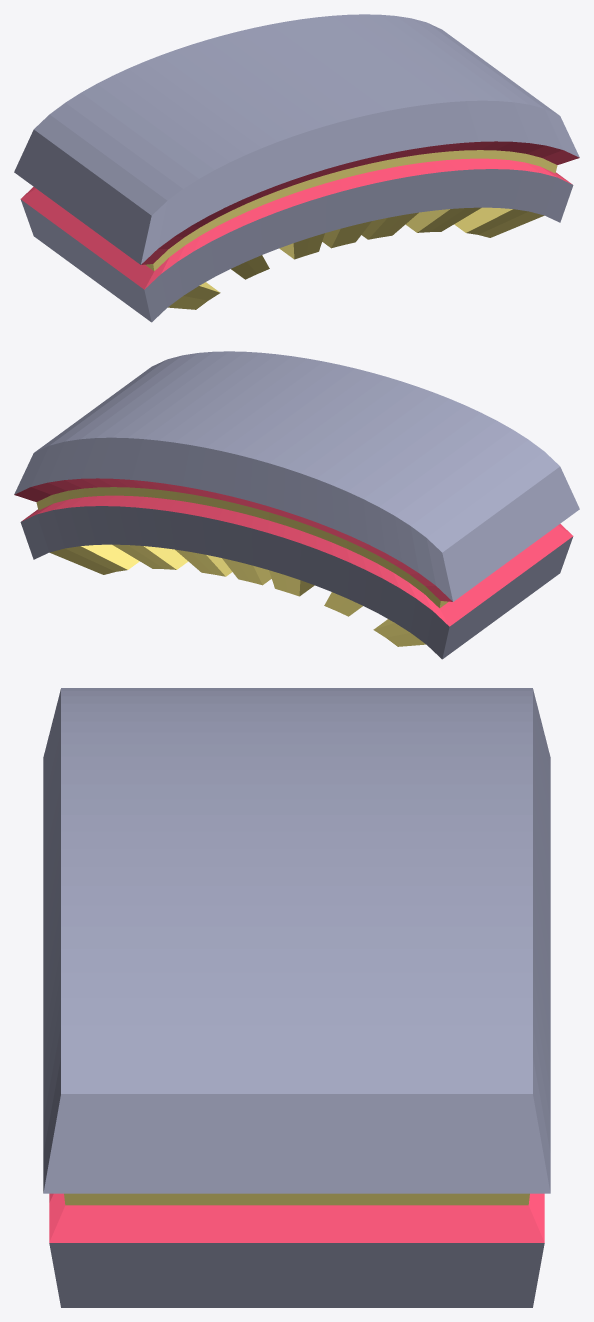
3 renders of one model, top to bottom at view 1: azimuth 30°, elevation 25°; view 2: azimuth 150°, elevation 25°; view 3: azimuth 270°, elevation 25°, orthographic. The views are drawn at different scales.
Visible parts, largest first — view 1: paddle; view 2: paddle; view 3: paddle.
Boxes of the visible parts, bbox=[...] form: paddle: bbox=[14, 14, 579, 322]; paddle: bbox=[14, 351, 579, 659]; paddle: bbox=[43, 688, 550, 1307].
Size of the model in its own units: 4.3 by 1.55 by 2.15.
